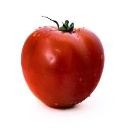tomato: (21, 25, 104, 108)
